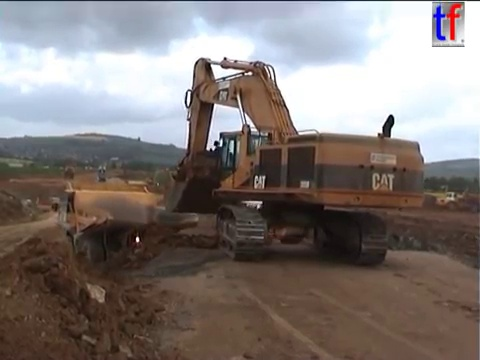excavator: (163, 54, 426, 267)
truck: (50, 180, 201, 271), (229, 181, 320, 251), (434, 190, 480, 213), (61, 165, 75, 179)
